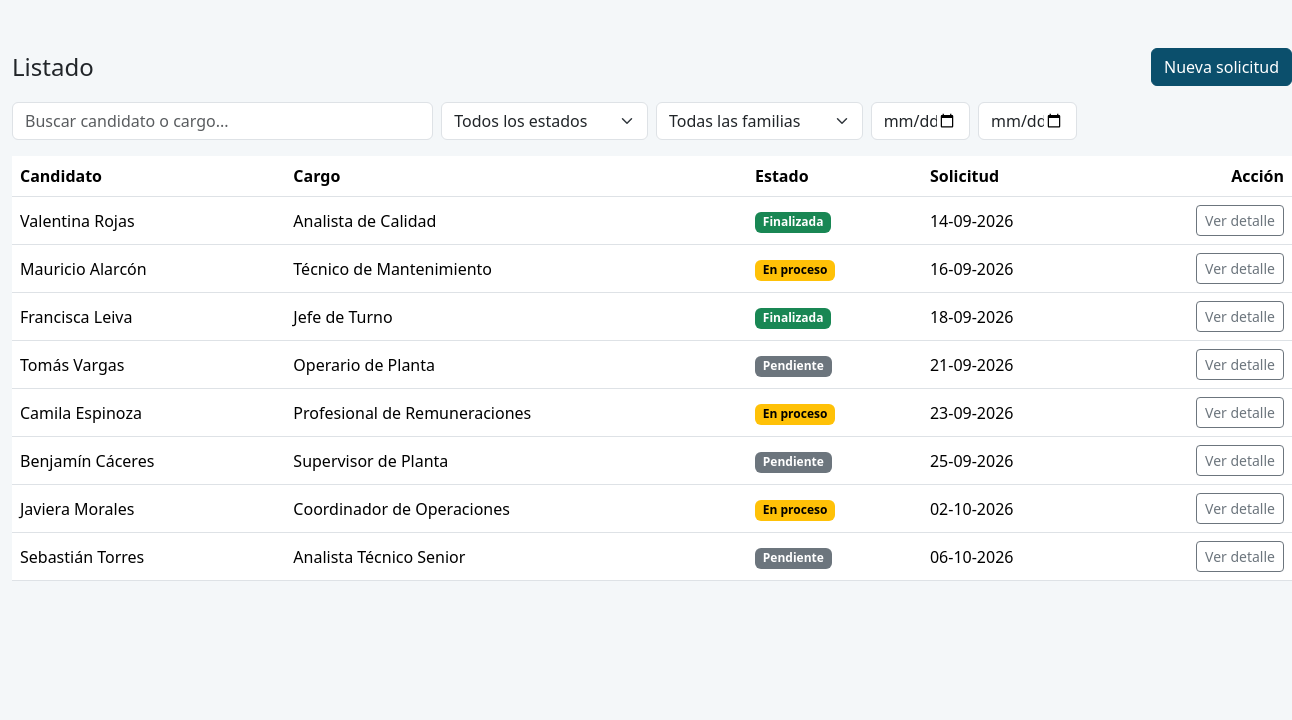
Test: BandejaSolicitudes › filtra por estado
The width and height of the screenshot is (1292, 720).
Step 1. Select "Pendiente" in the 1st dropdown named "estado" → (545, 121), box top-left (441, 102), bottom-right (648, 140)
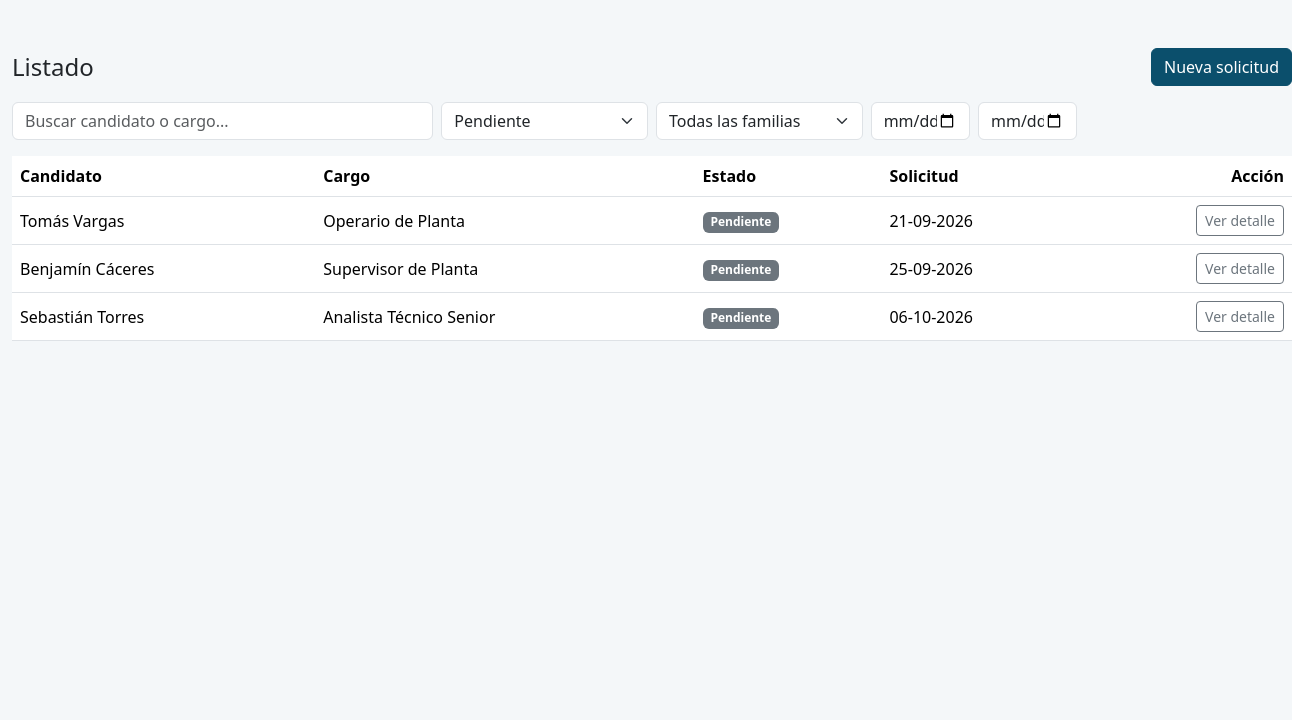
Expected: the text "Tomás Vargas" is shown, top-left (12, 196), bottom-right (315, 244)
Expected: the text "Valentina Rojas" is gone
